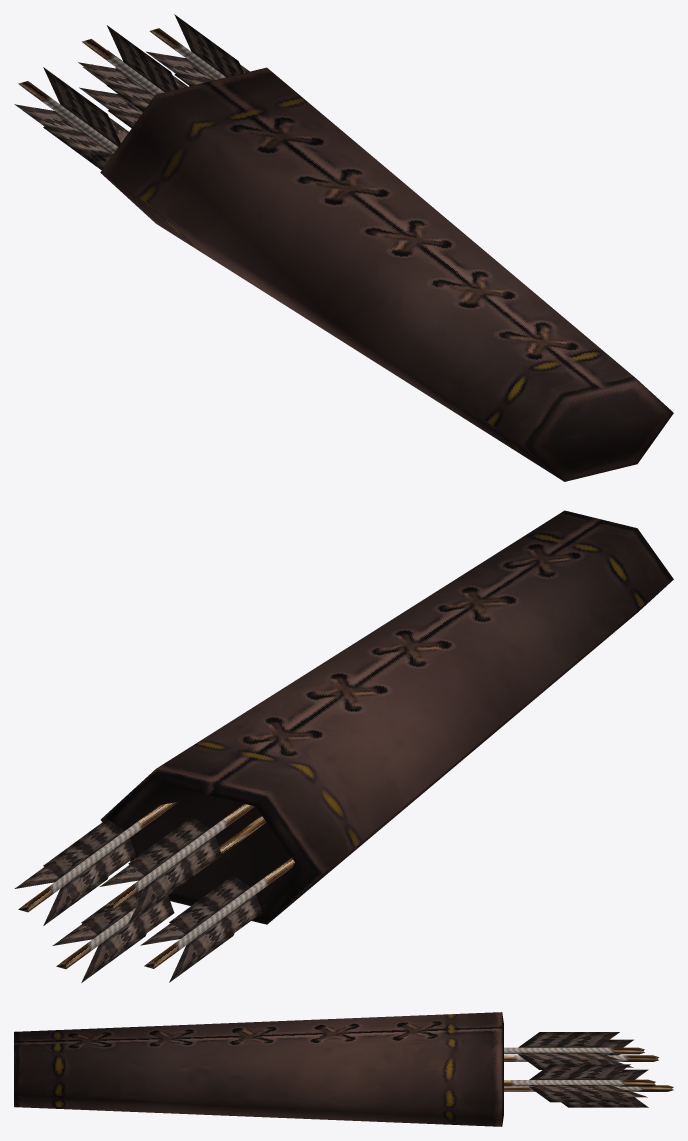
The model's file is quiver_arrow_1.glb.
3 renders of one model, top to bottom at view 1: azimuth 30°, elevation 25°; view 2: azimuth 150°, elevation 25°; view 3: azimuth 270°, elevation 25°, orthographic. The views are drawn at different scales.
Parts seen in each view (by area): view 1: quiver_arrow_1; view 2: quiver_arrow_1; view 3: quiver_arrow_1.
Part boxes in pixels (<box>): quiver_arrow_1: <box>14,14,673,481</box>; quiver_arrow_1: <box>14,510,673,982</box>; quiver_arrow_1: <box>14,1012,673,1126</box>.
Bounding box in the file's own units: 0.4245 × 0.2353 × 1.74.
1 material, 1 textured.
